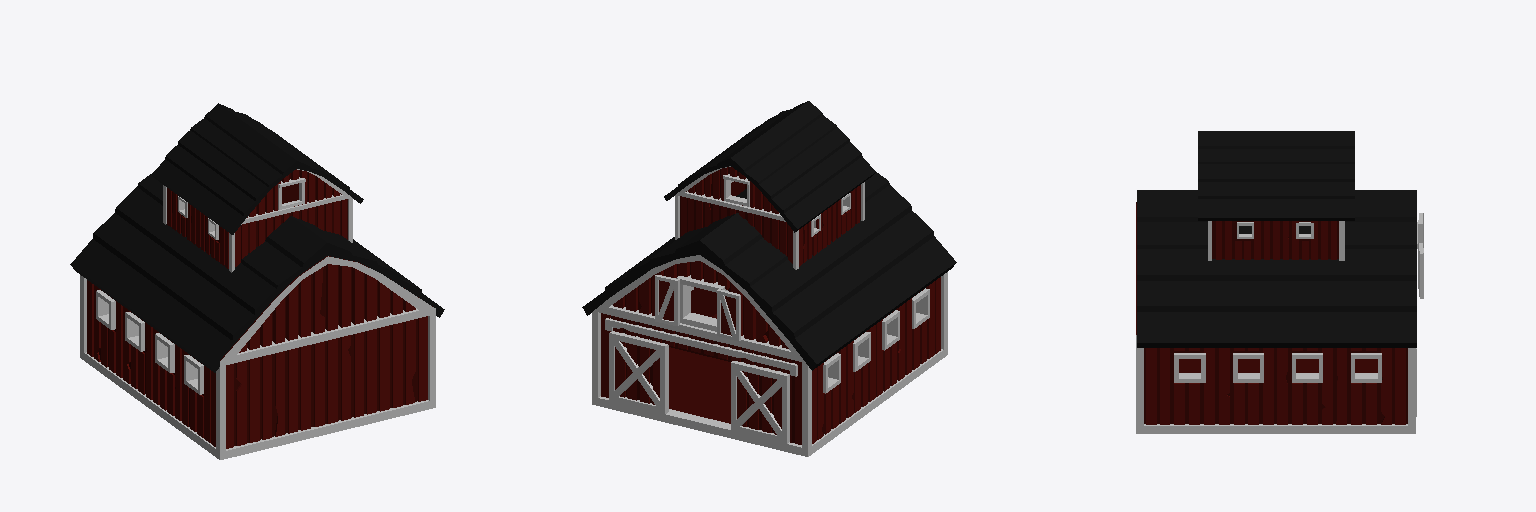
Rendered from BigBarn.obj.
3 renders of one model, left to right at view 1: azimuth 30°, elevation 25°; view 2: azimuth 150°, elevation 25°; view 3: azimuth 270°, elevation 25°, orthographic.
Visible parts, largest first — view 1: BigBarn; view 2: BigBarn; view 3: BigBarn.
Part boxes in pixels (bbox=[...]): BigBarn: bbox=[70, 103, 444, 459]; BigBarn: bbox=[582, 101, 956, 456]; BigBarn: bbox=[1136, 131, 1423, 433].
Size of the model in its own units: 7.73 by 7.89 by 8.22.